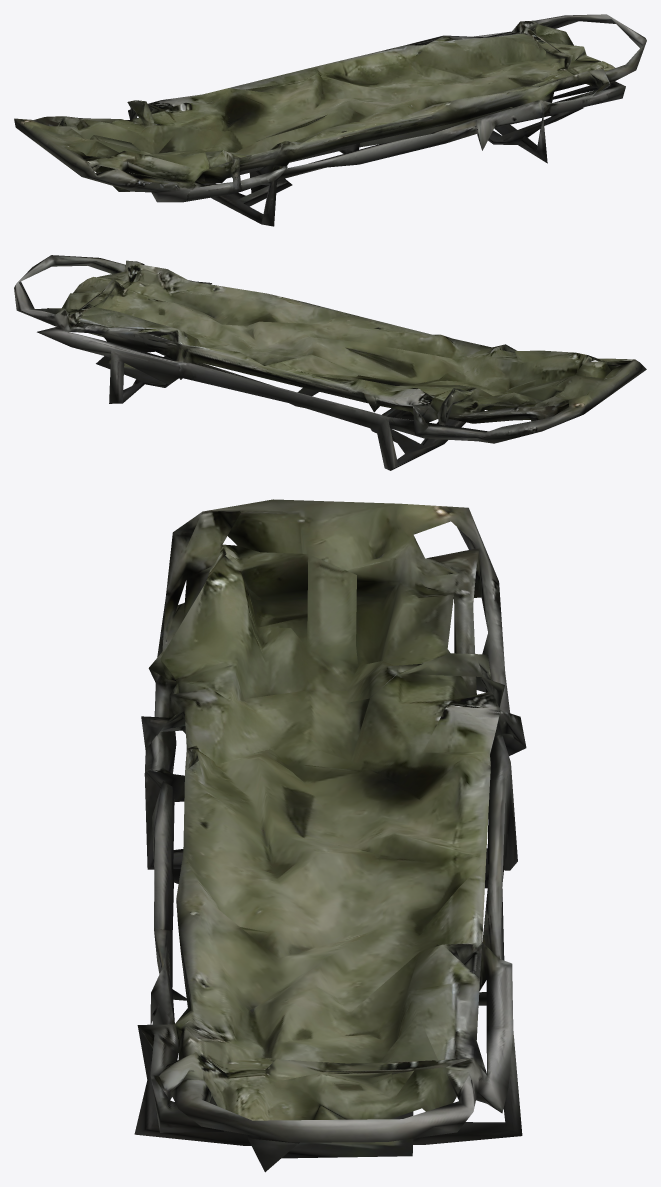
File: cv_stretcher.glb
3 views of the same model, one above another, from view 1: azimuth 30°, elevation 25°; view 2: azimuth 150°, elevation 25°; view 3: azimuth 270°, elevation 25° (orthographic). The views are drawn at different scales.
Visible parts, largest first — view 1: tripo_node_ae12bdde-f0d0-466b-969d-f0f2e3bc51b9; view 2: tripo_node_ae12bdde-f0d0-466b-969d-f0f2e3bc51b9; view 3: tripo_node_ae12bdde-f0d0-466b-969d-f0f2e3bc51b9.
Boxes of the visible parts, box(x1,y1,x2,y2) form: tripo_node_ae12bdde-f0d0-466b-969d-f0f2e3bc51b9: box(14, 14, 646, 226); tripo_node_ae12bdde-f0d0-466b-969d-f0f2e3bc51b9: box(14, 255, 646, 470); tripo_node_ae12bdde-f0d0-466b-969d-f0f2e3bc51b9: box(134, 499, 526, 1172).
Size of the model in its own units: 1 by 0.1617 by 0.2875.
Materials: 1 (1 with a texture image).
